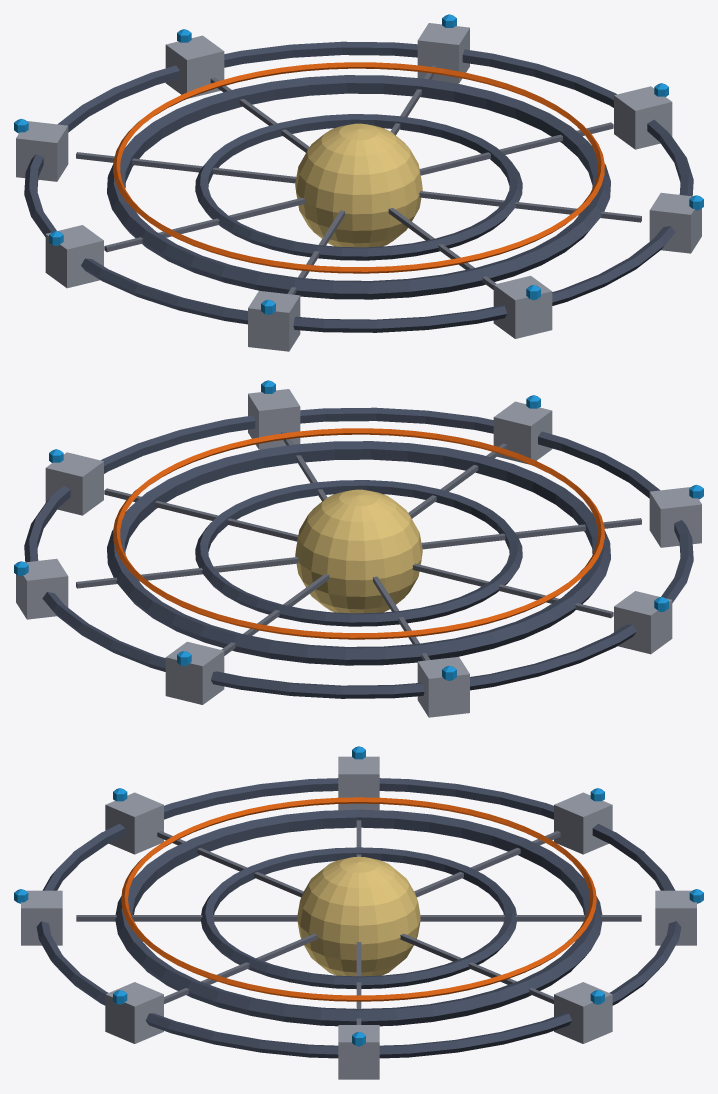
File: star_hub.glb
The picture shows the model from 3 angles, top to bottom: view 1: azimuth 30°, elevation 25°; view 2: azimuth 150°, elevation 25°; view 3: azimuth 270°, elevation 25°; orthographic projection. The views are drawn at different scales.
Parts seen in each view (by area): view 1: star_hub; view 2: star_hub; view 3: star_hub.
Boxes of the visible parts, x1,y1,x2,y2 form: star_hub: (14,14,703,351); star_hub: (14,380,703,717); star_hub: (14,746,703,1079).
Size of the model in its own units: 1.99 by 0.359 by 2.
